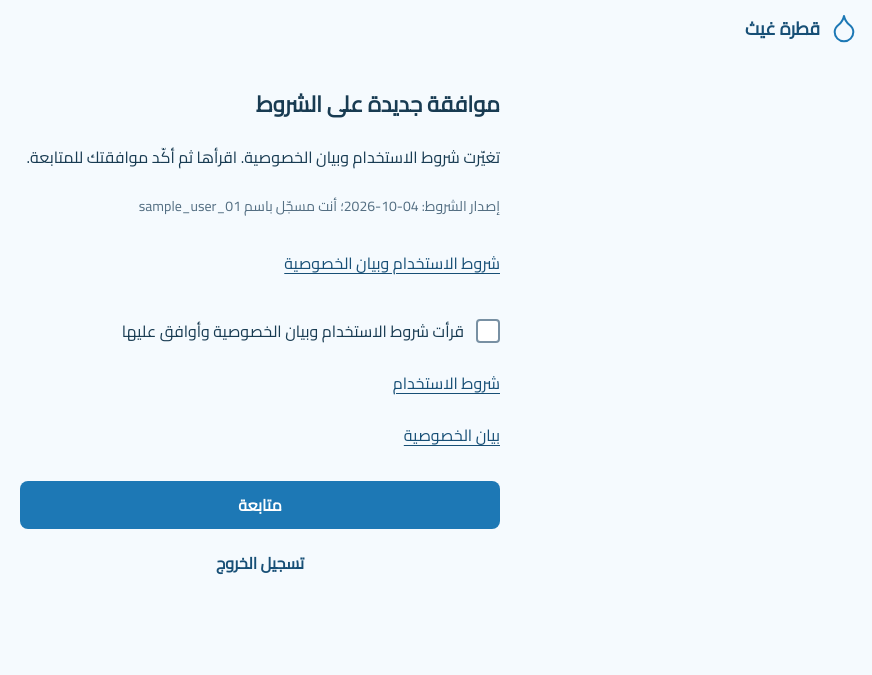
it: S-06 E05 errors (G-18, G-03, P-04 to P-07) › 503: a polite warning; a validation_error is an internal error
Click the checkbox labelled "قرأت شروط الاستخدام وبيان الخصوصية وأوافق عليها".
click(311, 331)  # box [122,316,500,346]
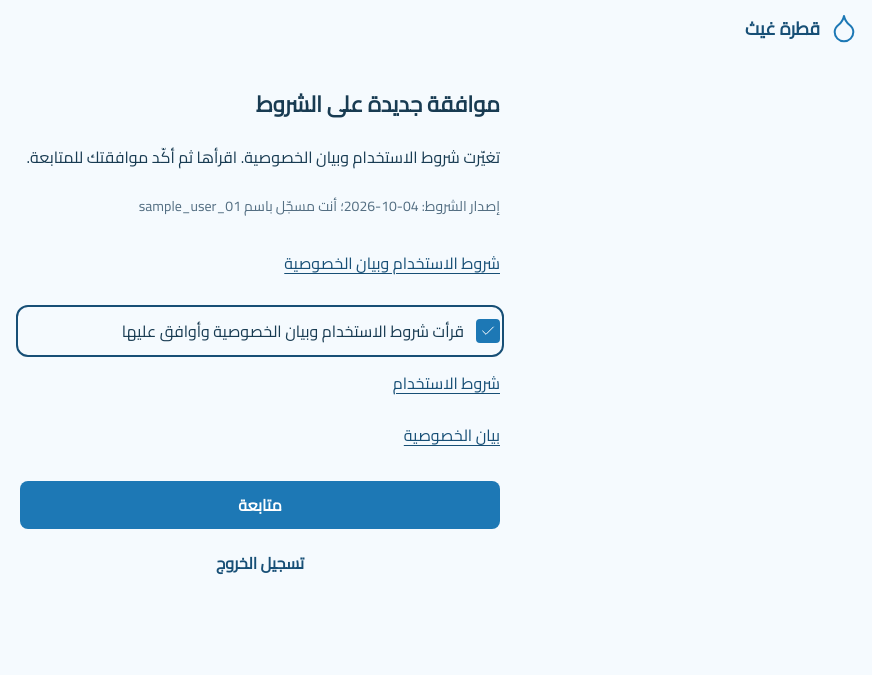
Click the button "متابعة".
click(260, 505)  # box [20,481,500,529]
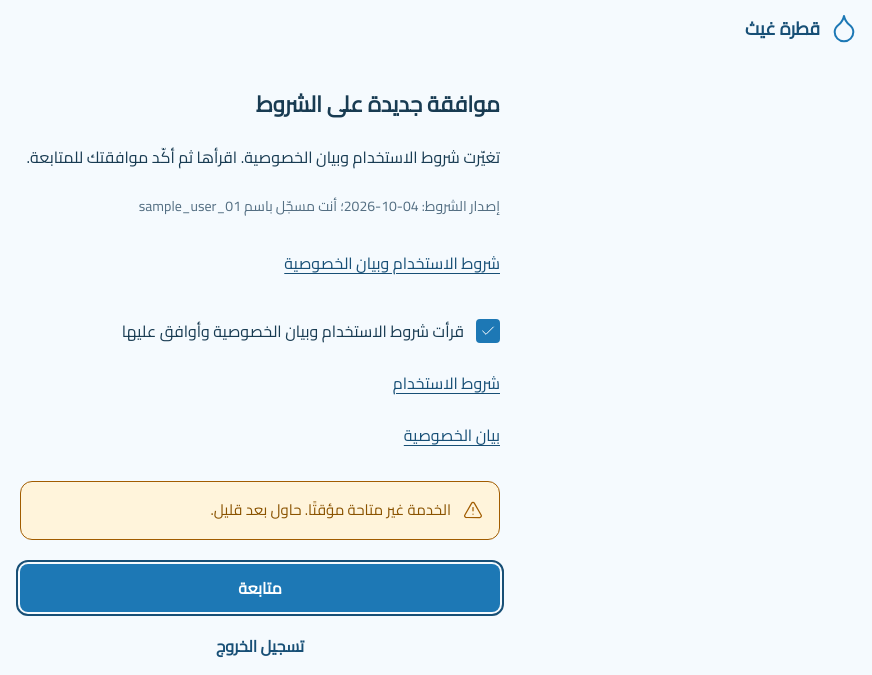
Expected: the text "الخدمة غير متاحة مؤقتًا. حاول بعد قليل." is shown, [210,495,451,524]
